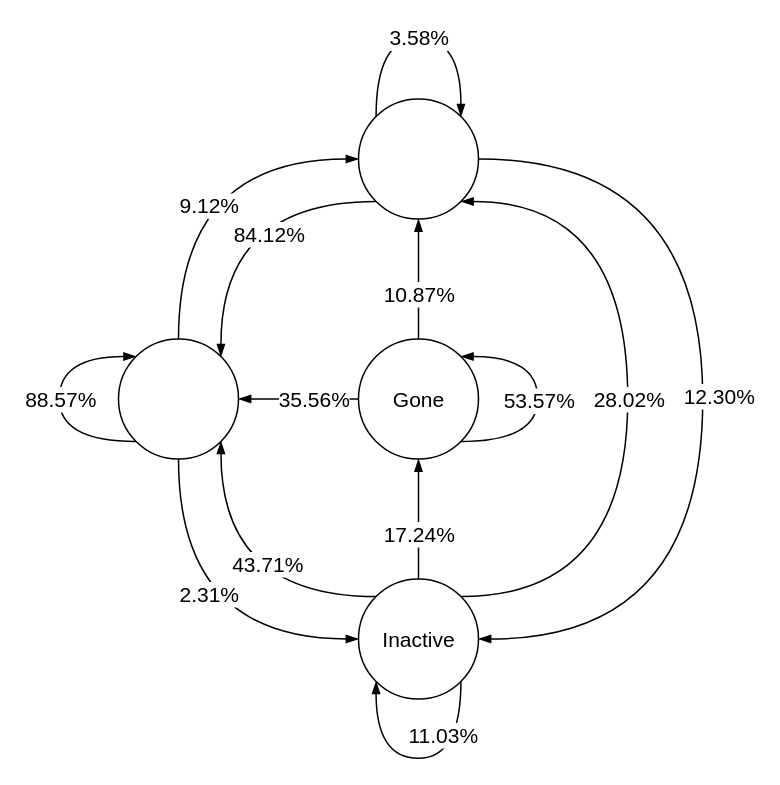
This 780x785 diagram has some shape labels left out. The shapes that lost their labels are listed below. From the top down, each one's centre as x and y in pixels, then its label:
(417,158): Non-coding
(177,398): Active
